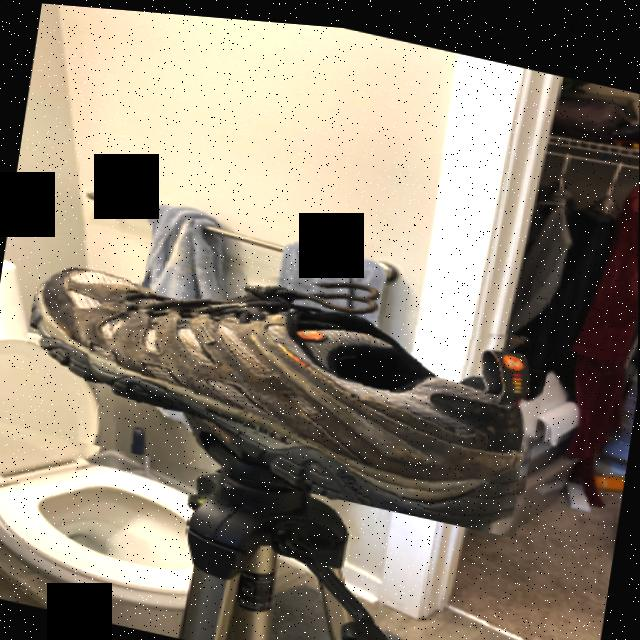shoe: (15, 212, 555, 533)
